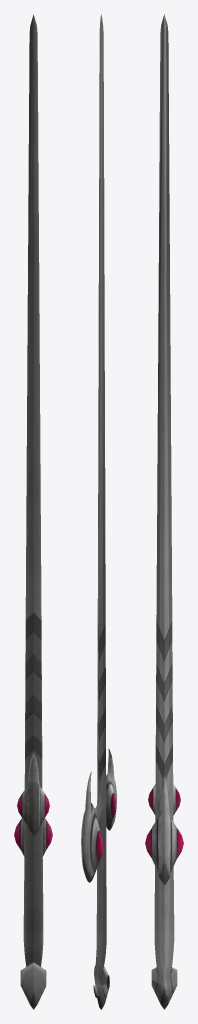
File: ww_wand.glb
The picture shows the model from 3 angles, left to right: view 1: azimuth 90°, elevation 25°; view 2: azimuth 210°, elevation 25°; view 3: azimuth 270°, elevation 25°; orthographic projection.
Visible parts, largest first — view 1: wind_waker_reference_Mat_0; view 2: wind_waker_reference_Mat_0; view 3: wind_waker_reference_Mat_0.
Boxes of the visible parts, x1=… form: wind_waker_reference_Mat_0: x1=14, y1=14, x2=52, y2=1009; wind_waker_reference_Mat_0: x1=81, y1=14, x2=116, y2=1009; wind_waker_reference_Mat_0: x1=145, y1=14, x2=183, y2=1009.
Bounding box in the file's own units: 9.96 × 288 × 10.16.
1 material, 1 textured.
